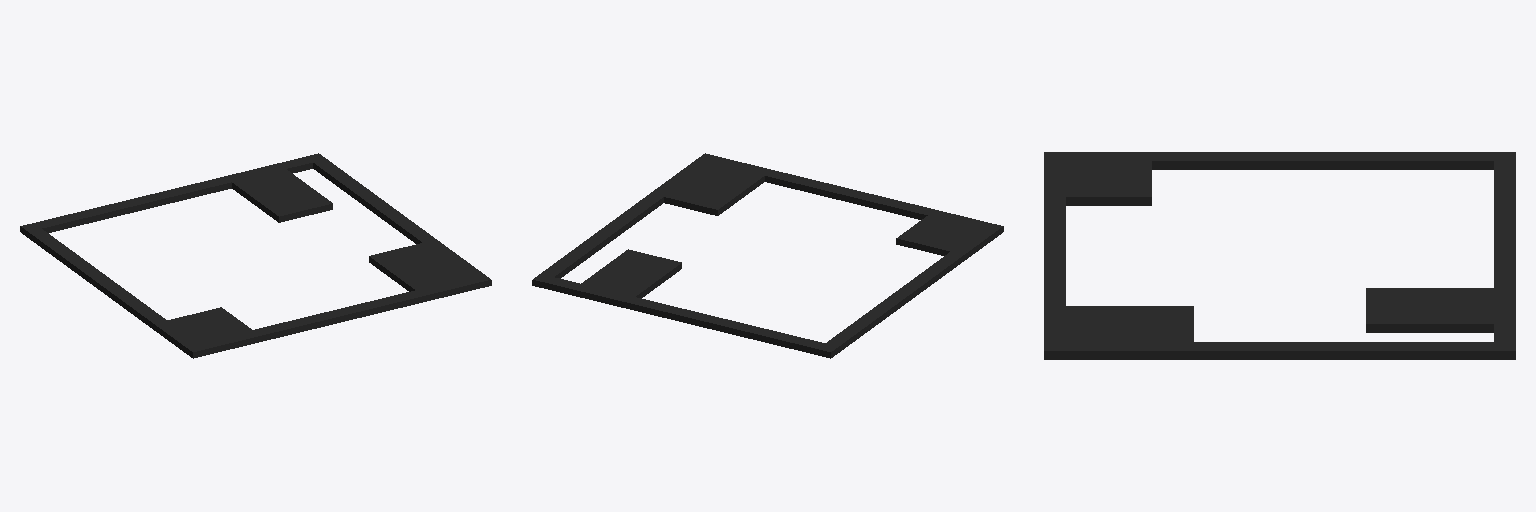
URDF robot description (Room35):
<robot name="Room35">
    <link name="_name">
        <visual> 
            <origin rpy="0.0 0.0 0.0" xyz="-0.5645394295633598 -0.4603347743081111 -0.01" />
                <geometry>
                    <mesh filename="Room35/Room35.obj" scale="1 1 0.1" />
                </geometry>

            <material name="black">
                <color rgba="0.2 0.2 0.2 0.95" />
            </material>
        </visual>

       <collision concave="yes" name="collision_0">
            <origin rpy="0.0 0.0 0.0" xyz="-0.5645394295633598 -0.4603347743081111 -0.01" />
            <geometry>
                <mesh filename="Room35/Room35_vhacd.obj" scale="1 1 0.1" />
            </geometry>
        </collision>

        <inertial> 
            <mass value="0" />
            <inertia ixx="0" ixy="0" ixz="0" iyy="0" iyz="0" izz="0" />
        </inertial> 
    </link>
</robot>

--- Render facts (derived) ---
Views: 3 orthographic renders of the robot side by side, from view 1: azimuth 30°, elevation 25°; view 2: azimuth 150°, elevation 25°; view 3: azimuth 270°, elevation 25°.
Model Room35 with 1 links and 0 joints (none), rooted at _name, posed every joint at zero.
Links seen in each view (by area): view 1: _name; view 2: _name; view 3: _name.
Boxes of the visible links, x1=… form: _name: x1=20, y1=153, x2=491, y2=358; _name: x1=532, y1=153, x2=1003, y2=358; _name: x1=1044, y1=152, x2=1515, y2=359.
Size in the robot's own frame: 1 by 1 by 0.02 metres.
Meshes: 1 distinct files referenced, 1 mesh visuals loaded (1 OBJ).